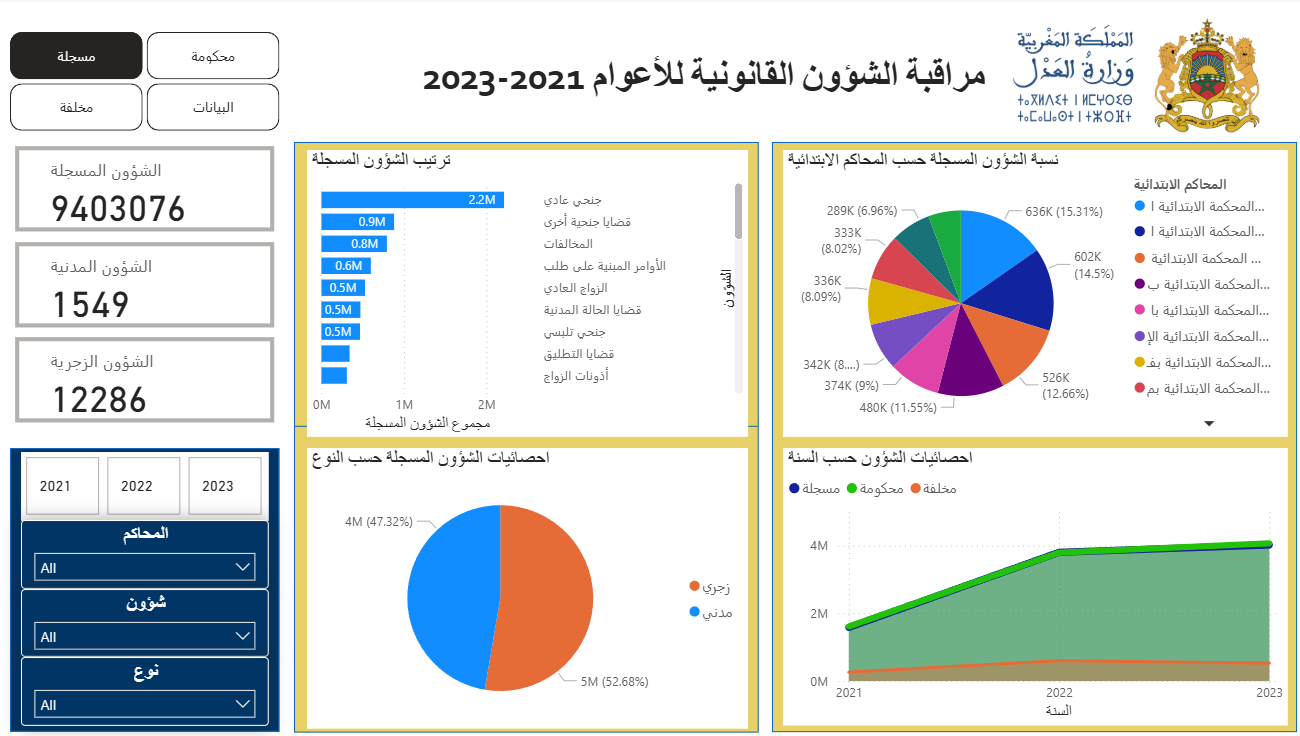

What the dashboard file says about the page in this screenshot:
{"tool":"powerbi","page":{"name":"مسجلة","canvas":[1280,720],"ordinal":0},"visuals":[{"type":"group","id":"g1","title":"Group 1","box":[23,140,1252.6,574.4],"z":0},{"type":"shape","box":[299,409,452,305],"z":0,"group":"g1"},{"type":"image","box":[958,0,322,150],"z":1000},{"type":"shape","box":[23,438,262,276],"z":1000,"group":"g1"},{"type":"shape","box":[764.4,140,511.1,574.4],"z":2000,"group":"g1"},{"type":"advancedSlicerVisual","fields":{"Values":["DimDate.CalendarYear"]},"box":[34.4,441.2,241.1,66.7],"z":2000},{"type":"shape","box":[299,140,452,277],"z":3000,"group":"g1"},{"type":"slicer","title":"المحاكم","fields":{"Values":["DimTribunal.NomTribunal"]},"box":[34.4,507.9,241.1,66.7],"z":3000},{"type":"slicer","title":"شؤون","fields":{"Values":["DimAffaire.NomAffaire"]},"box":[34,574.8,241.2,66.1],"z":4000},{"type":"slicer","title":"نوع","fields":{"Values":["DimCategory.CategoryName"]},"box":[34.4,641.2,241.1,66.7],"z":5000},{"type":"cardVisual","fields":{"Data":["Sum(FactSuiviAffaires.مسجلة)"]},"box":[23,139,262,93],"z":6000},{"type":"clusteredBarChart","title":"ترتيب الشؤون المسجلة","fields":{"Category":["DimAffaire.NomAffaire"],"Y":["Sum(FactSuiviAffaires.مسجلة)"]},"box":[312,148,429,279],"z":7000},{"type":"pieChart","title":"    احصائيات الشؤون  المسجلة حسب النوع","fields":{"Y":["Sum(FactSuiviAffaires.مسجلة)"],"Category":["DimCategory.CategoryName"]},"box":[312,438,429,273],"z":8000},{"type":"pieChart","title":"نسبة الشؤون المسجلة حسب المحاكم الابتدائية","fields":{"Category":["FactSuiviAffaires.TribunalName"],"Y":["Sum(FactSuiviAffaires.مسجلة)"]},"box":[775,148,491,279],"z":9000},{"type":"areaChart","title":"    احصائيات الشؤون حسب  السنة","fields":{"Category":["DimDate.CalendarYear"],"Y":["Sum(FactSuiviAffaires.مسجلة)","Sum(FactSuiviAffaires.محكومة)","Sum(FactSuiviAffaires.مخلفة)"]},"box":[775,438,491,270],"z":10000},{"type":"textbox","box":[363.8,47.7,608.9,82.7],"z":11000},{"type":"pageNavigator","box":[23,33,262,97],"z":12000},{"type":"cardVisual","fields":{"Data":["Sum(FactSuiviAffaires.CategoryKey)"]},"box":[23,232,262,93],"z":13000},{"type":"cardVisual","fields":{"Data":["Sum(FactSuiviAffaires.CategoryKey)"]},"box":[23,325,262,93],"z":14000}]}

Visuals, with their boxes in screenshot pixels (x1, y1, x2, y2), scaled from the page's 1280x720 canvas onto the 1300x736 screenshot:
"Group 1" group: <bbox>23, 143, 1296, 730</bbox>
shape: <bbox>304, 418, 763, 730</bbox>
image: <bbox>973, 0, 1299, 153</bbox>
shape: <bbox>23, 448, 289, 730</bbox>
shape: <bbox>776, 143, 1295, 730</bbox>
advancedSlicerVisual - DimDate.CalendarYear: <bbox>35, 451, 280, 519</bbox>
shape: <bbox>304, 143, 763, 426</bbox>
"المحاكم" slicer: <bbox>35, 519, 280, 587</bbox>
"شؤون" slicer: <bbox>35, 588, 280, 655</bbox>
"نوع" slicer: <bbox>35, 655, 280, 724</bbox>
cardVisual - Sum(FactSuiviAffaires.مسجلة): <bbox>23, 142, 289, 237</bbox>
"ترتيب الشؤون المسجلة" clusteredBarChart: <bbox>317, 151, 753, 436</bbox>
"    احصائيات الشؤون  المسجلة حسب النوع" pieChart: <bbox>317, 448, 753, 727</bbox>
"نسبة الشؤون المسجلة حسب المحاكم الابتدائية" pieChart: <bbox>787, 151, 1286, 436</bbox>
"    احصائيات الشؤون حسب  السنة" areaChart: <bbox>787, 448, 1286, 724</bbox>
textbox: <bbox>369, 49, 988, 133</bbox>
pageNavigator: <bbox>23, 34, 289, 133</bbox>
cardVisual - Sum(FactSuiviAffaires.CategoryKey): <bbox>23, 237, 289, 332</bbox>
cardVisual - Sum(FactSuiviAffaires.CategoryKey): <bbox>23, 332, 289, 427</bbox>
